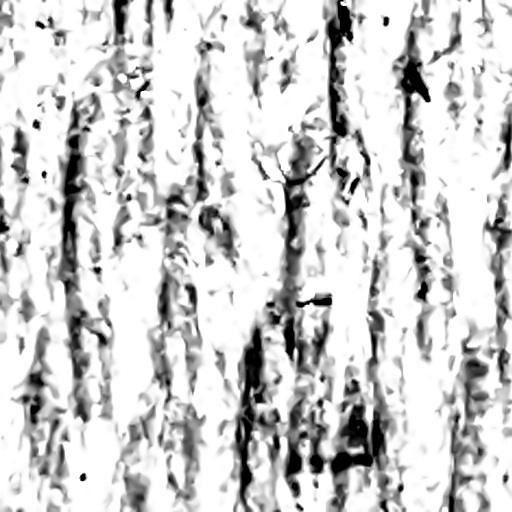egg: (405, 63, 429, 101), (338, 0, 350, 39), (296, 293, 331, 305)
